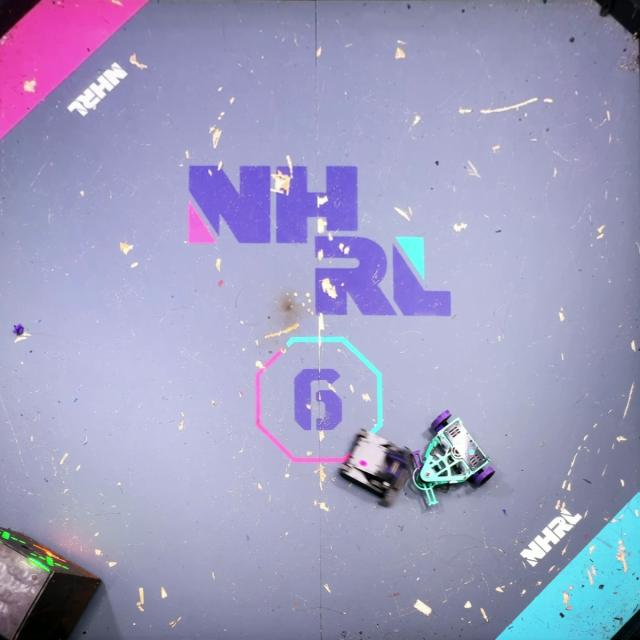housebot: (0, 523, 103, 640)
robot: (413, 409, 496, 508), (336, 424, 415, 508)
